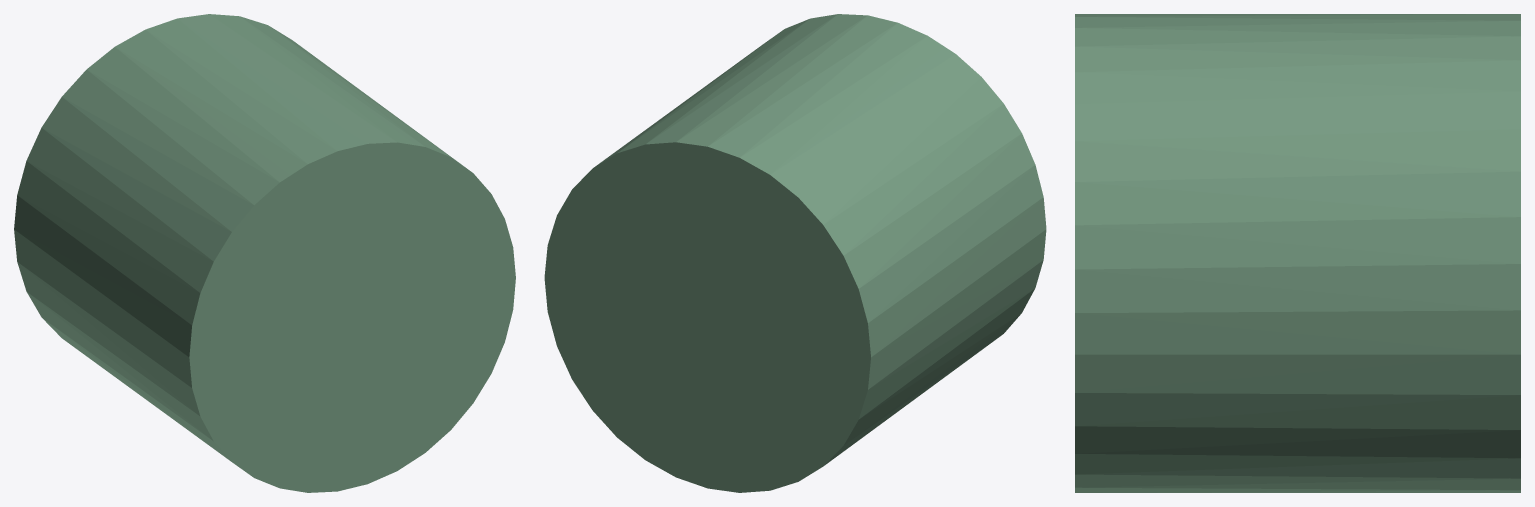
The model's file is forearm_E3M5_collision000.obj.
The picture shows the model from 3 angles, left to right: view 1: azimuth 30°, elevation 25°; view 2: azimuth 150°, elevation 25°; view 3: azimuth 270°, elevation 25°; orthographic projection. The views are drawn at different scales.
Size of the model in its own units: 0.135 by 0.135 by 0.1256.
